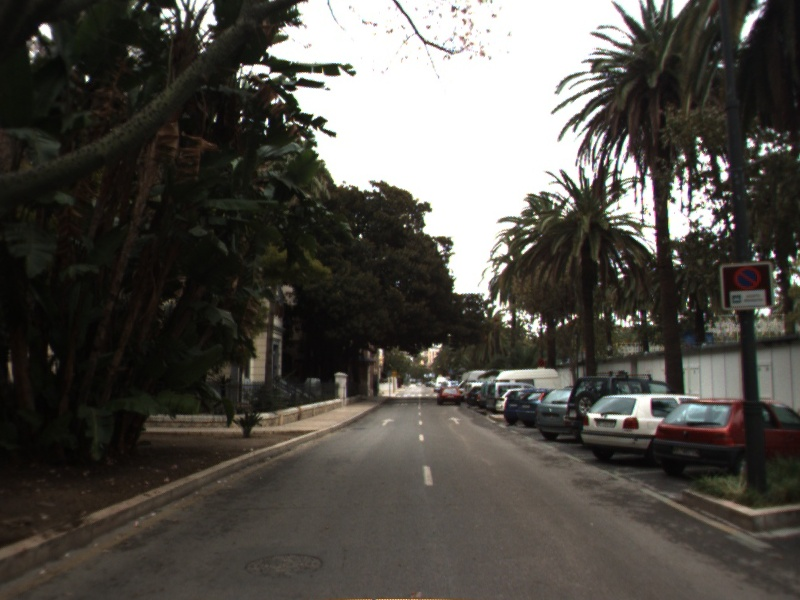STRAIGHT: (446, 414, 465, 426), (379, 416, 397, 428)
